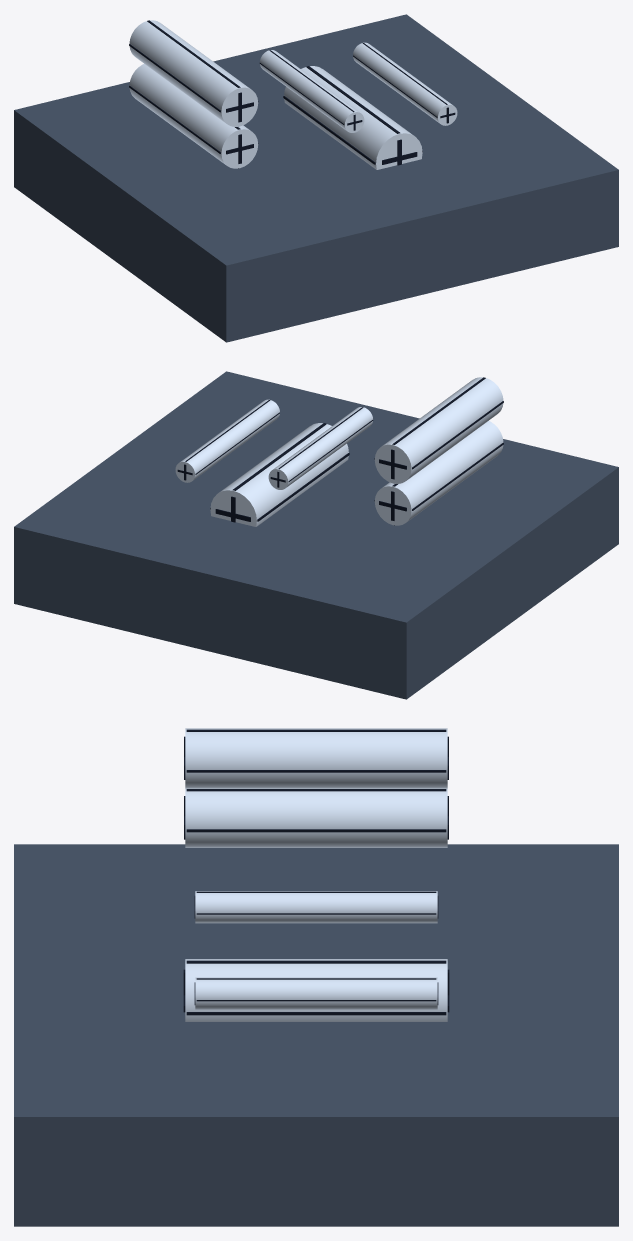
The model's file is downcoiler.glb.
3 views of the same model, one above another, from view 1: azimuth 30°, elevation 25°; view 2: azimuth 150°, elevation 25°; view 3: azimuth 270°, elevation 25° (orthographic). The views are drawn at different scales.
Parts seen in each view (by area): view 1: Downcoiler, TopPinchRoll, CoilerMandrel, BotPinchRoll, WrapperRoll_1, WrapperRoll_2; view 2: Downcoiler, TopPinchRoll, CoilerMandrel, BotPinchRoll, WrapperRoll_1, WrapperRoll_2; view 3: Downcoiler, TopPinchRoll, BotPinchRoll, CoilerMandrel, WrapperRoll_1, WrapperRoll_2.
Part boxes in pixels (box(x1,y1,x2,y2)): Downcoiler: box(14, 14, 618, 342); TopPinchRoll: box(129, 20, 258, 126); CoilerMandrel: box(283, 66, 422, 169); BotPinchRoll: box(129, 64, 258, 168); WrapperRoll_1: box(353, 42, 457, 125); WrapperRoll_2: box(259, 50, 364, 132); Downcoiler: box(14, 371, 618, 699); TopPinchRoll: box(374, 377, 503, 483); CoilerMandrel: box(210, 423, 349, 526); BotPinchRoll: box(374, 421, 503, 525); WrapperRoll_1: box(175, 399, 279, 482); WrapperRoll_2: box(268, 407, 373, 489); Downcoiler: box(14, 844, 618, 1226); TopPinchRoll: box(184, 728, 448, 788); BotPinchRoll: box(184, 788, 448, 847); CoilerMandrel: box(183, 959, 449, 1021); WrapperRoll_1: box(194, 977, 438, 1009); WrapperRoll_2: box(194, 891, 438, 923).
Bounding box in the file's own units: 6.4 × 3.01 × 6.
